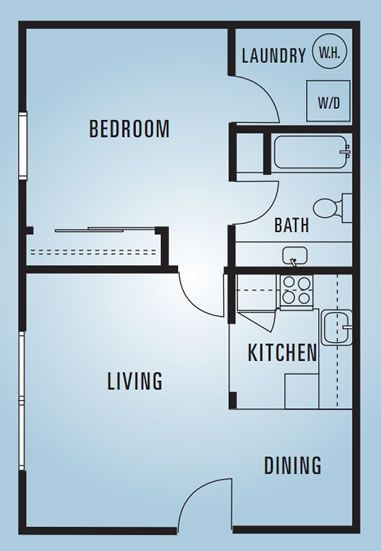door: (178, 470, 235, 535), (179, 261, 228, 319), (229, 72, 283, 123), (230, 176, 283, 227)
room: (15, 259, 360, 536), (10, 17, 238, 265), (227, 122, 360, 283), (228, 12, 363, 133)
wall: (348, 22, 362, 529), (15, 19, 360, 32), (13, 179, 33, 331), (21, 259, 181, 277), (15, 522, 178, 537), (233, 520, 357, 537), (14, 24, 30, 113), (226, 224, 239, 322), (229, 264, 353, 274), (13, 470, 30, 529), (228, 122, 242, 182), (156, 217, 170, 267), (226, 26, 240, 75)
window: (11, 330, 32, 473), (12, 112, 36, 188)
